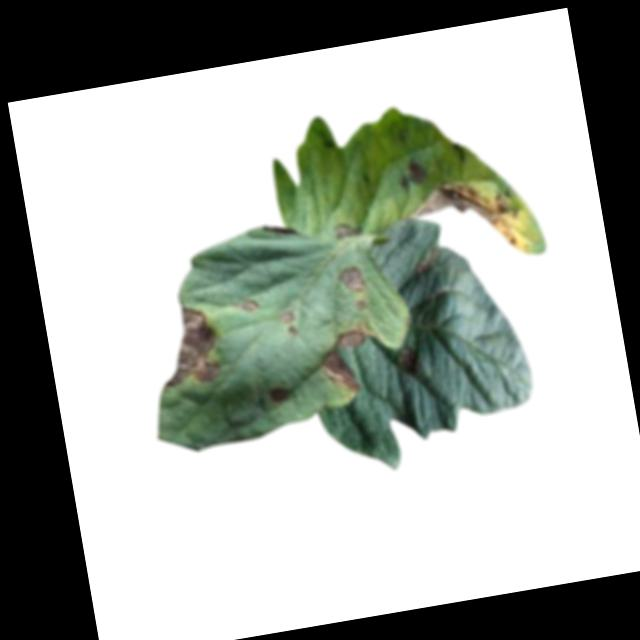Early_blight: (409, 172, 522, 261), (150, 303, 222, 389), (310, 319, 378, 398), (397, 156, 430, 190), (391, 344, 422, 376), (337, 262, 367, 295), (410, 247, 441, 275), (332, 220, 363, 243), (267, 379, 292, 405), (278, 307, 298, 335), (240, 295, 264, 314), (352, 297, 367, 311)
